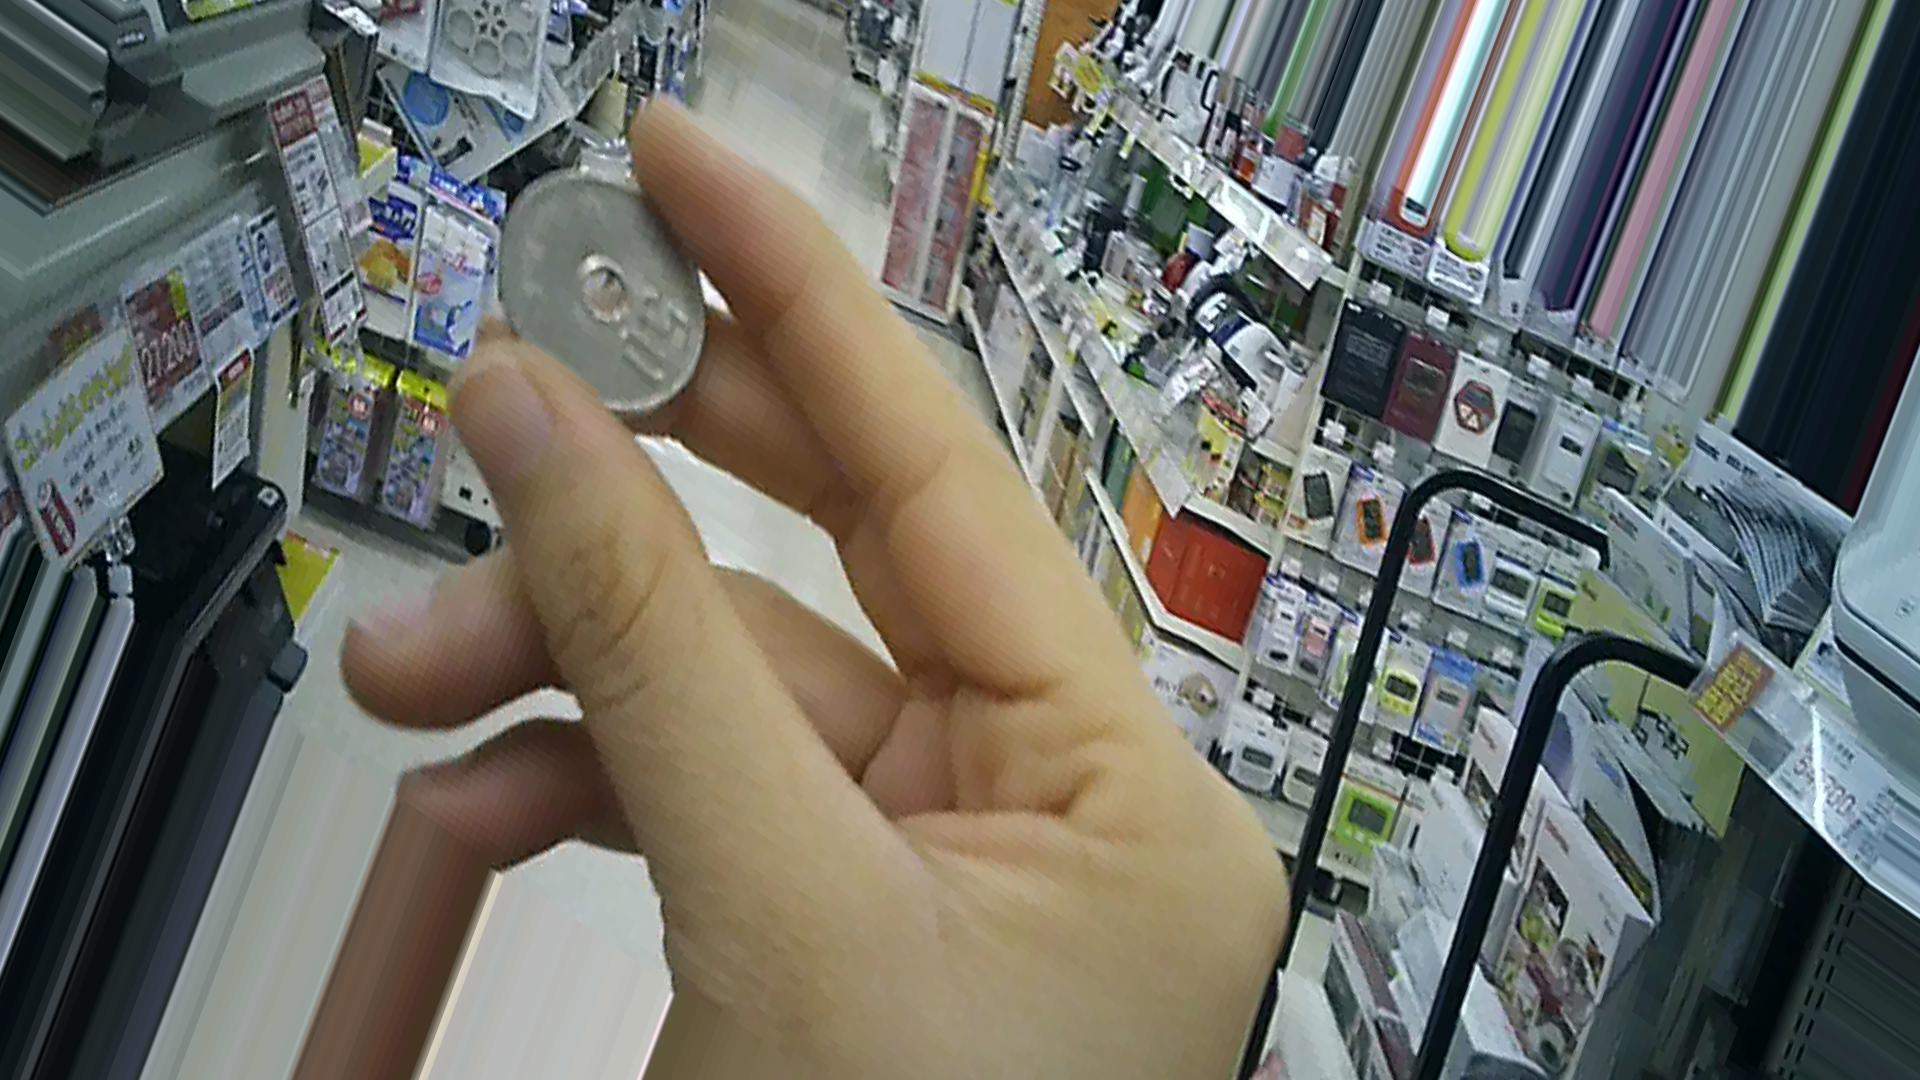50 Yen: (498, 156, 709, 429)
